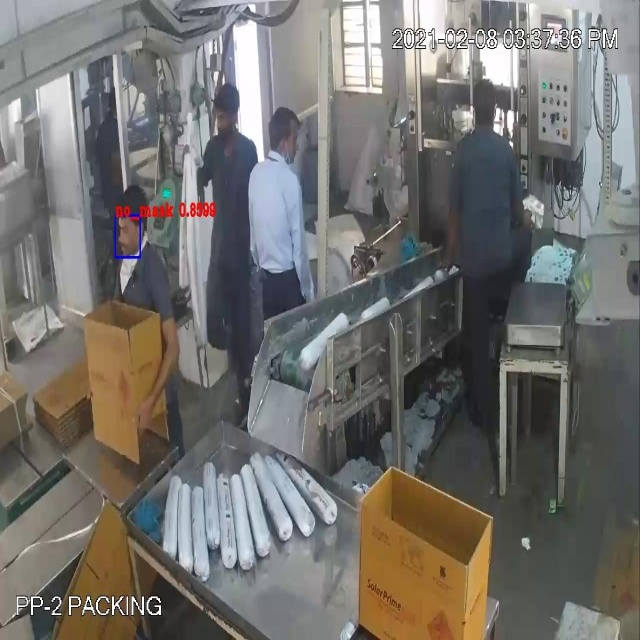Sin_guantes: (125, 303, 182, 428)
